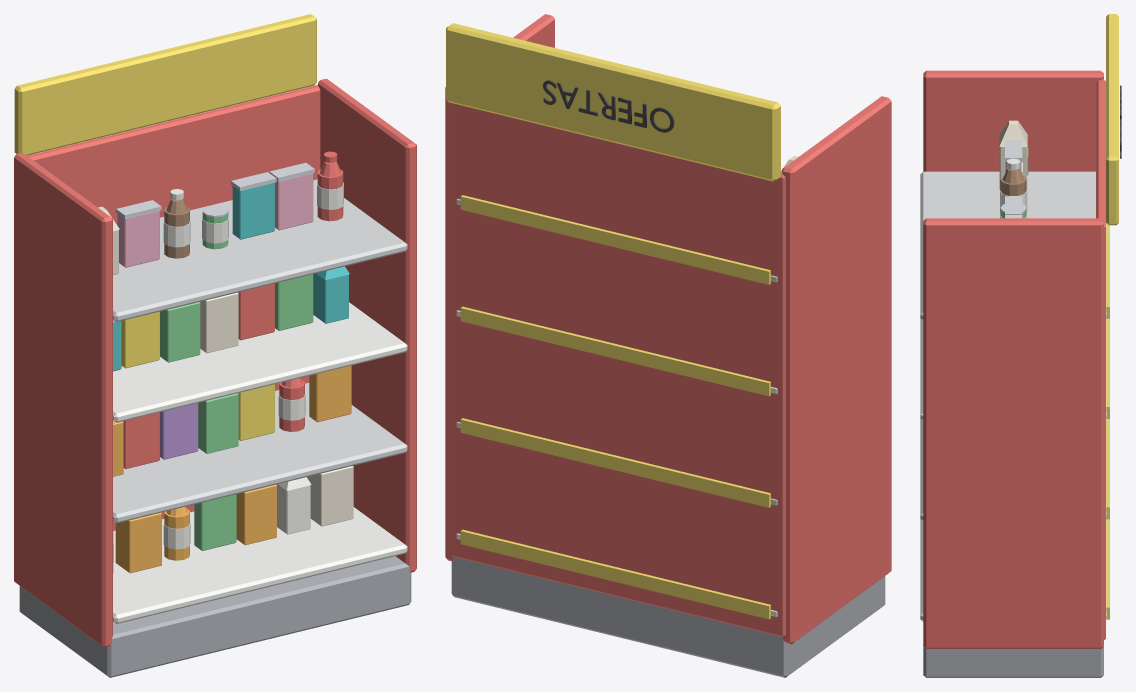
The model's file is Estanteria_Ofertas.fbx.
3 views of the same model, side by side, from view 1: azimuth 30°, elevation 25°; view 2: azimuth 150°, elevation 25°; view 3: azimuth 270°, elevation 25° (orthographic). The views are drawn at different scales.
Parts seen in each view (by area): view 1: Estanteria_Ofertas | Lateral izq, Estanteria_Ofertas | Lateral der, Estanteria_Ofertas | Panel letrero, Estanteria_Ofertas | Respaldo, Estanteria_Ofertas | Zocalo, Estanteria_Ofertas | Bandeja 4, Estanteria_Ofertas | Bandeja 2, Estanteria_Ofertas | Bandeja 1, Estanteria_Ofertas | Bandeja 3, Estanteria_Ofertas | Caja, Estanteria_Ofertas | Caja.002, Estanteria_Ofertas | Caja.005 (+24 smaller); view 2: Estanteria_Ofertas | Respaldo, Estanteria_Ofertas | Lateral izq, Estanteria_Ofertas | Panel letrero, Estanteria_Ofertas | Zocalo, Estanteria_Ofertas | Cantina precio.002, Estanteria_Ofertas | Cantina precio, Estanteria_Ofertas | Cantina precio.001, Estanteria_Ofertas | Cantina precio.003, Estanteria_Ofertas | Lateral der, Estanteria_Ofertas | Texto letrero; view 3: Estanteria_Ofertas | Lateral der, Estanteria_Ofertas | Lateral izq, Estanteria_Ofertas | Bandeja 4, Estanteria_Ofertas | Zocalo, Estanteria_Ofertas | Panel letrero, Estanteria_Ofertas | Respaldo, Estanteria_Ofertas | Tejado brik.002, Estanteria_Ofertas | Bandeja 2, Estanteria_Ofertas | Bandeja 1, Estanteria_Ofertas | Bandeja 3, Estanteria_Ofertas | Brik.002, Estanteria_Ofertas | Cantina precio (+6 smaller).
Part boxes in pixels (left/top/right/bottom): Estanteria_Ofertas | Lateral izq: left=14, top=152, right=112, bottom=647; Estanteria_Ofertas | Lateral der: left=318, top=78, right=416, bottom=572; Estanteria_Ofertas | Panel letrero: left=14, top=14, right=316, bottom=155; Estanteria_Ofertas | Respaldo: left=27, top=85, right=320, bottom=530; Estanteria_Ofertas | Zocalo: left=19, top=556, right=411, bottom=677; Estanteria_Ofertas | Bandeja 4: left=113, top=179, right=407, bottom=321; Estanteria_Ofertas | Bandeja 2: left=113, top=383, right=407, bottom=523; Estanteria_Ofertas | Bandeja 1: left=113, top=507, right=407, bottom=623; Estanteria_Ofertas | Bandeja 3: left=113, top=302, right=407, bottom=422; Estanteria_Ofertas | Caja: left=115, top=512, right=161, bottom=573; Estanteria_Ofertas | Caja.002: left=307, top=466, right=353, bottom=526; Estanteria_Ofertas | Caja.005: left=160, top=302, right=200, bottom=362; Estanteria_Ofertas | Respaldo: left=450, top=103, right=785, bottom=637; Estanteria_Ofertas | Lateral izq: left=782, top=96, right=891, bottom=644; Estanteria_Ofertas | Panel letrero: left=446, top=23, right=780, bottom=181; Estanteria_Ofertas | Zocalo: left=451, top=556, right=885, bottom=677; Estanteria_Ofertas | Cantina precio.002: left=460, top=306, right=770, bottom=396; Estanteria_Ofertas | Cantina precio: left=460, top=529, right=770, bottom=619; Estanteria_Ofertas | Cantina precio.001: left=460, top=418, right=770, bottom=507; Estanteria_Ofertas | Cantina precio.003: left=460, top=195, right=770, bottom=284; Estanteria_Ofertas | Lateral der: left=445, top=14, right=554, bottom=561; Estanteria_Ofertas | Texto letrero: left=543, top=80, right=674, bottom=132; Estanteria_Ofertas | Lateral der: left=923, top=218, right=1103, bottom=648; Estanteria_Ofertas | Lateral izq: left=923, top=70, right=1103, bottom=171; Estanteria_Ofertas | Bandeja 4: left=920, top=171, right=1106, bottom=320; Estanteria_Ofertas | Zocalo: left=923, top=646, right=1103, bottom=677; Estanteria_Ofertas | Panel letrero: left=1106, top=14, right=1118, bottom=225; Estanteria_Ofertas | Respaldo: left=1096, top=79, right=1105, bottom=639; Estanteria_Ofertas | Tejado brik.002: left=999, top=120, right=1027, bottom=146; Estanteria_Ofertas | Bandeja 2: left=920, top=419, right=1106, bottom=521; Estanteria_Ofertas | Bandeja 1: left=920, top=519, right=1106, bottom=621; Estanteria_Ofertas | Bandeja 3: left=920, top=319, right=1106, bottom=420; Estanteria_Ofertas | Brik.002: left=999, top=146, right=1027, bottom=189; Estanteria_Ofertas | Cantina precio: left=1106, top=519, right=1109, bottom=619.
Bounding box in the file's own units: 1.25 × 1.97 × 0.691.
